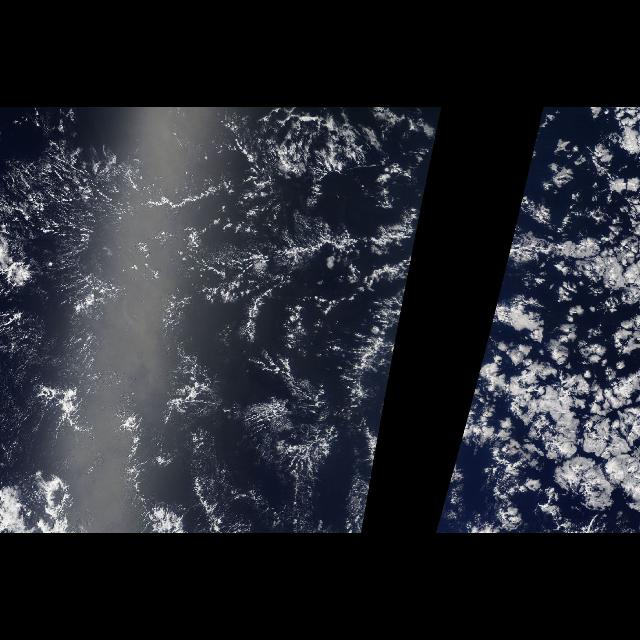Flower: (466, 302, 620, 514)
